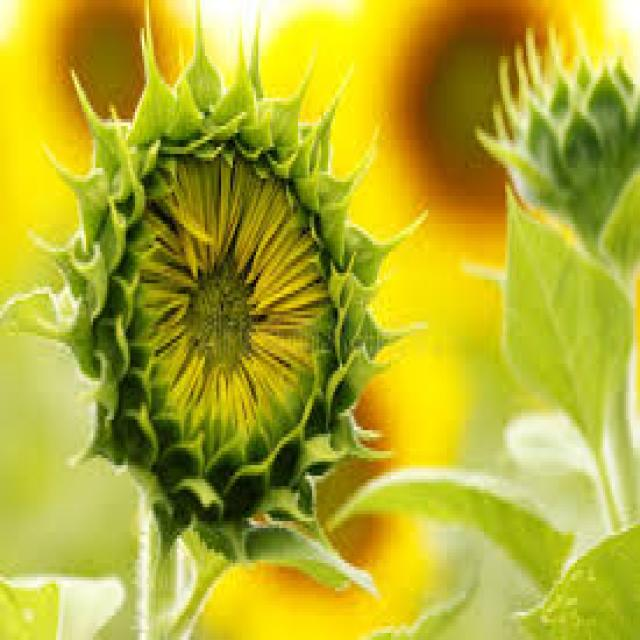Unbloomed: (13, 53, 417, 562)
